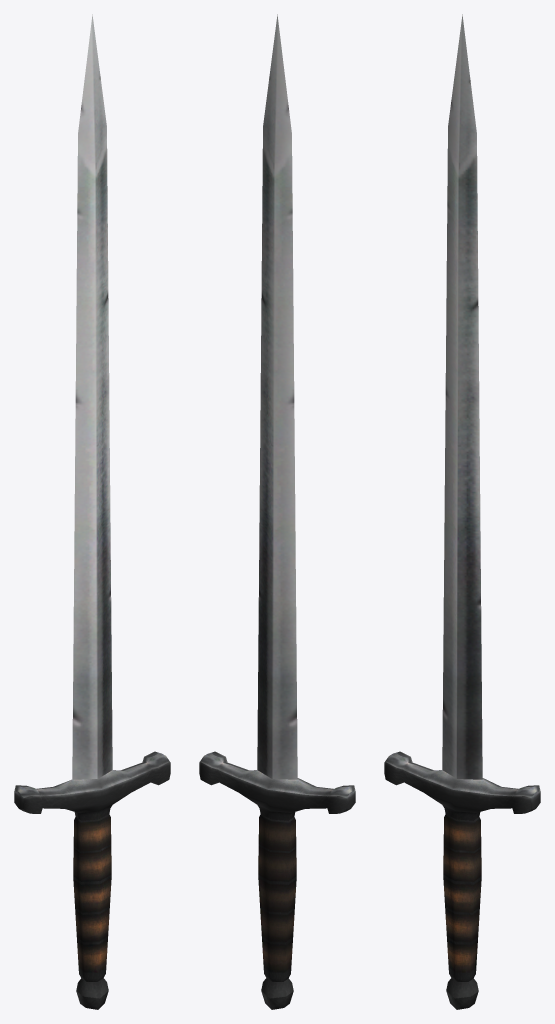
File: Sword_1.fbx
3 views of the same model, side by side, from view 1: azimuth 30°, elevation 25°; view 2: azimuth 150°, elevation 25°; view 3: azimuth 330°, elevation 25° (orthographic).
Visible parts, largest first — view 1: Sword_1; view 2: Sword_1; view 3: Sword_1.
Boxes of the visible parts, x1,y1,x2,y2 form: Sword_1: (14,14,170,1009); Sword_1: (199,14,355,1009); Sword_1: (384,14,540,1009).
Bounding box in the file's own units: 40.06 × 258 × 9.21.
